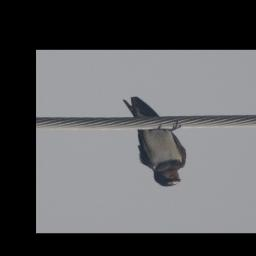Swallow: (122, 96, 187, 187)
